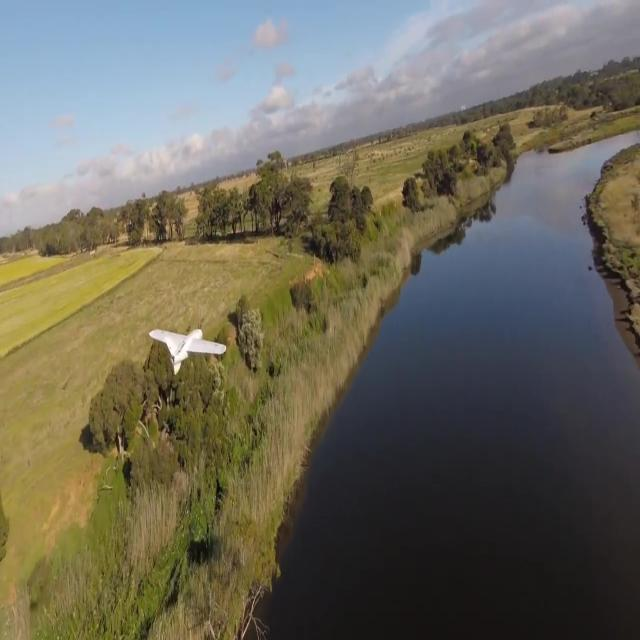iha: (181, 323, 194, 376)
